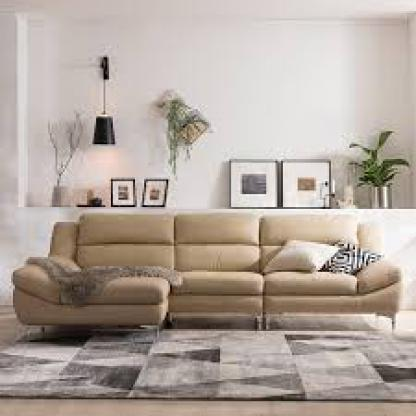sofa: (11, 214, 399, 333)
